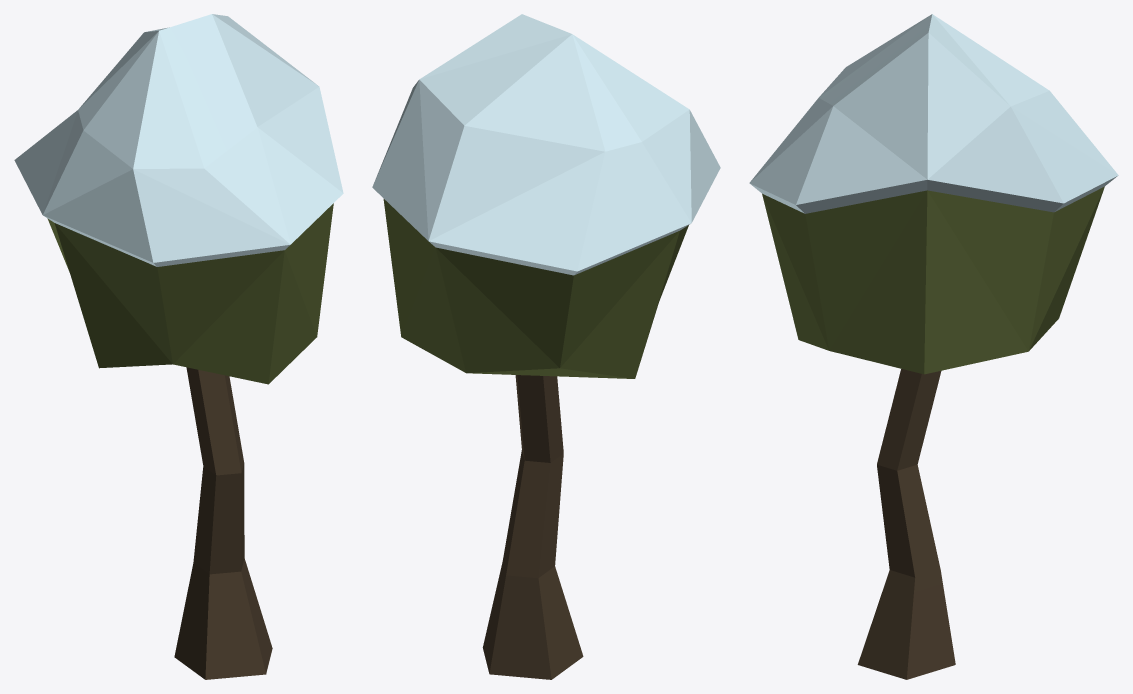
The model's file is SM_Env_Tree_013_Snow.gltf.
3 renders of one model, left to right at view 1: azimuth 30°, elevation 25°; view 2: azimuth 150°, elevation 25°; view 3: azimuth 270°, elevation 25°, orthographic. The views are drawn at different scales.
Visible parts, largest first — view 1: SM_Env_Tree_013_Snow; view 2: SM_Env_Tree_013_Snow; view 3: SM_Env_Tree_013_Snow.
Boxes of the visible parts, x1,y1,x2,y2 form: SM_Env_Tree_013_Snow: (14, 14, 343, 679); SM_Env_Tree_013_Snow: (372, 14, 720, 679); SM_Env_Tree_013_Snow: (749, 14, 1118, 679).
Size of the model in its own units: 2.49 by 5.54 by 2.97.
1 material, 1 textured.
